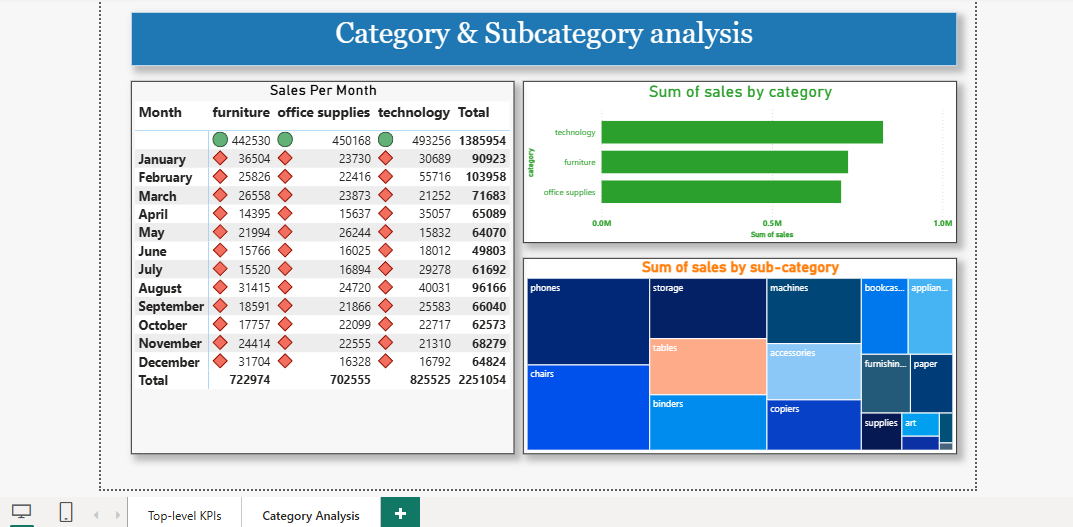

The dashboard page shown, as its layout file describes it:
{"tool":"powerbi","page":{"name":"Category Analysis","canvas":[1280,720],"ordinal":1},"visuals":[{"type":"textbox","box":[43.7,21.8,1209.4,79],"z":0},{"type":"clusteredBarChart","fields":{"Y":["Sum(cleaned_superstore_data.sales)"],"Category":["cleaned_superstore_data.category"]},"box":[618.2,122.6,635,236.9],"z":1000},{"type":"treemap","fields":{"Values":["Sum(cleaned_superstore_data.sales)"],"Details":["cleaned_superstore_data.sub-category"]},"box":[618.2,381.3,635,287.2],"z":2000},{"type":"pivotTable","title":"Sales Per Month","fields":{"Values":["Sum(cleaned_superstore_data.sales)"],"Columns":["cleaned_superstore_data.category"],"Rows":["cleaned_superstore_data.order_date.Variation.Date Hierarchy.Month"]},"box":[43.7,122.6,561,545.9],"z":3000}]}

Visuals, with their boxes on the page's 1280x720 design canvas (x1, y1, x2, y2). These are canvas units, not pixel positions in the 1073x527 screenshot, which may show the page scaled, cropped or inside an application window:
textbox: x1=44, y1=22, x2=1253, y2=101
clusteredBarChart - Sum(cleaned_superstore_data.sales) x cleaned_superstore_data.category: x1=618, y1=123, x2=1253, y2=360
treemap - Sum(cleaned_superstore_data.sales) x cleaned_superstore_data.sub-category: x1=618, y1=381, x2=1253, y2=668
"Sales Per Month" pivotTable: x1=44, y1=123, x2=605, y2=668
